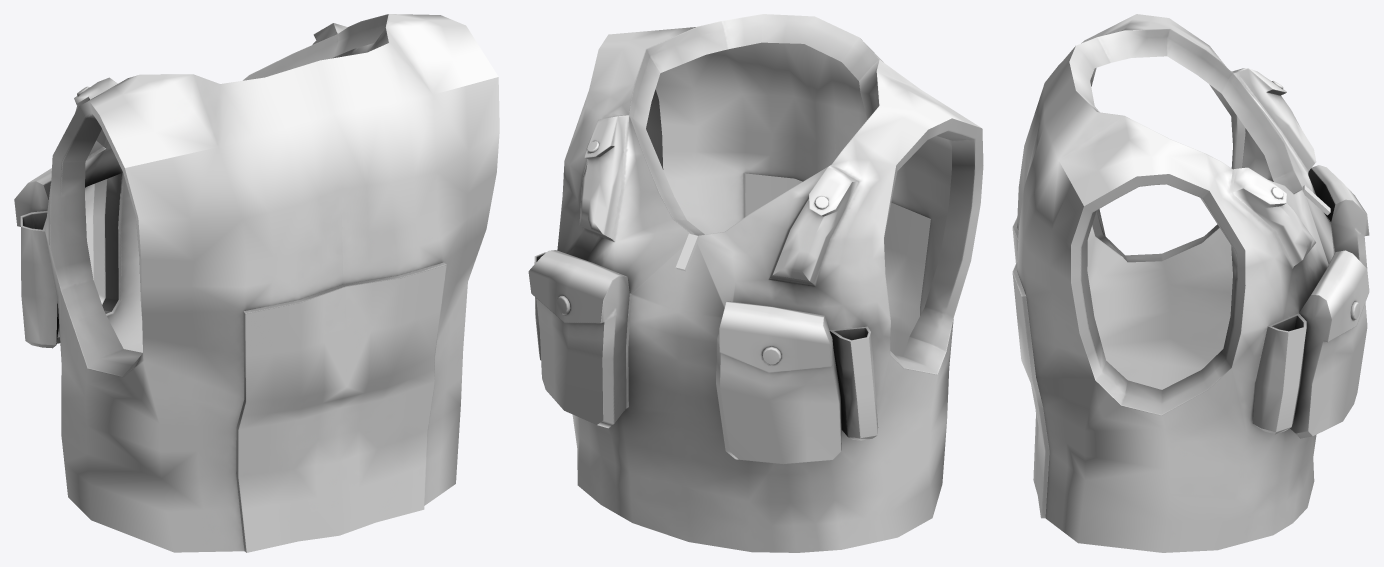
The model's file is Vest.fbx.
3 renders of one model, left to right at view 1: azimuth 30°, elevation 25°; view 2: azimuth 150°, elevation 25°; view 3: azimuth 270°, elevation 25°, orthographic. The views are drawn at different scales.
Parts seen in each view (by area): view 1: Vest; view 2: Vest; view 3: Vest.
Boxes of the visible parts, x1=… form: Vest: x1=14, y1=14, x2=499, y2=552; Vest: x1=528, y1=14, x2=983, y2=552; Vest: x1=1012, y1=14, x2=1369, y2=552.
Size of the model in its own units: 0.6114 by 0.7337 by 0.5568.
